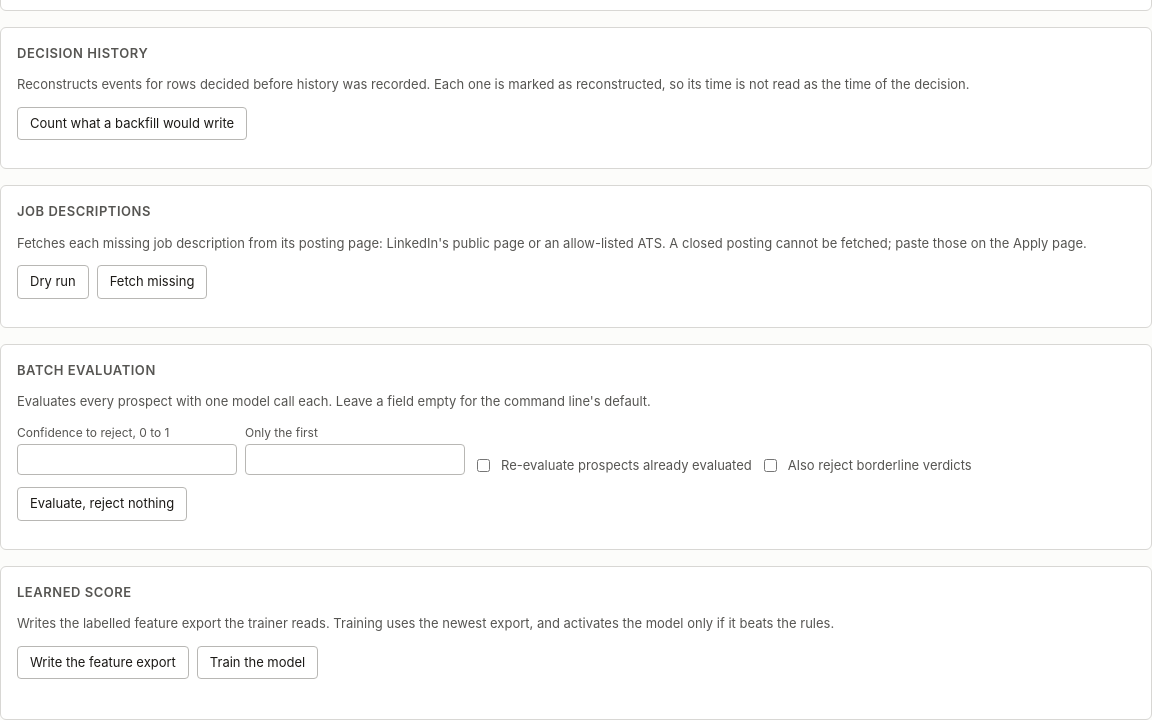
it: a run refused for another run's options is shown in the server's words
The width and height of the screenshot is (1152, 720).
(page scrolled)
Click the button "Evaluate, reject nothing" at x=102, y=504, box [17,487,187,521]
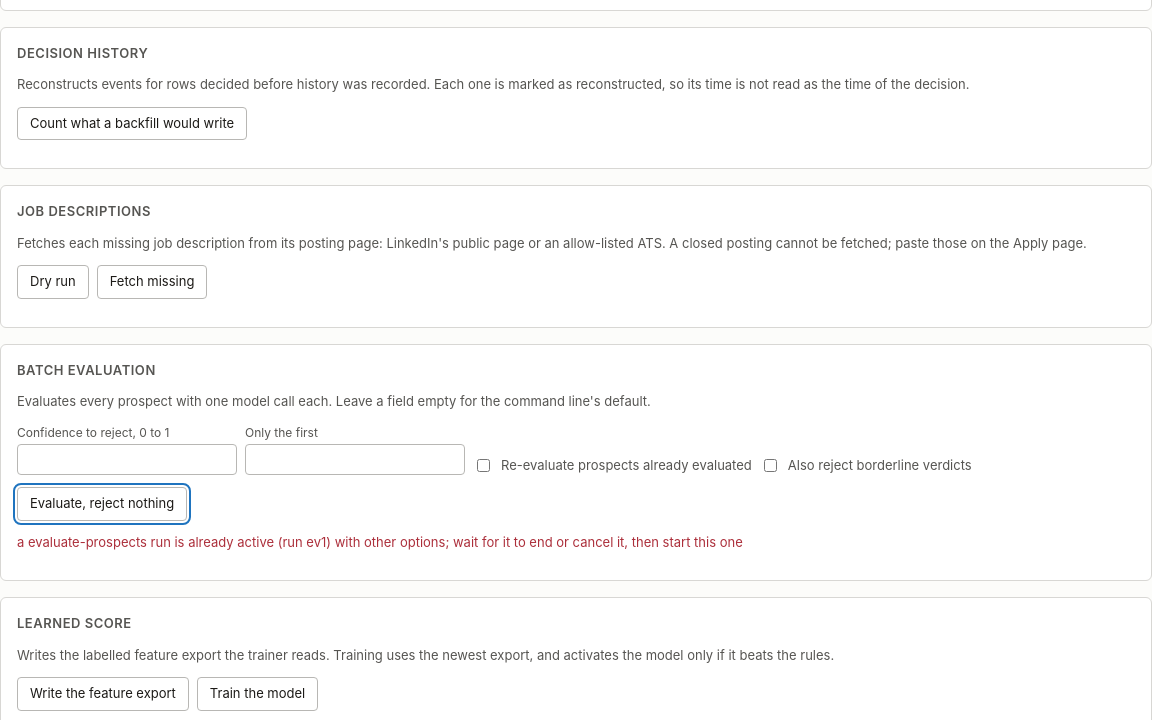
Result: the text "already active (run ev1) with other options" is shown at [17,534,743,550]
